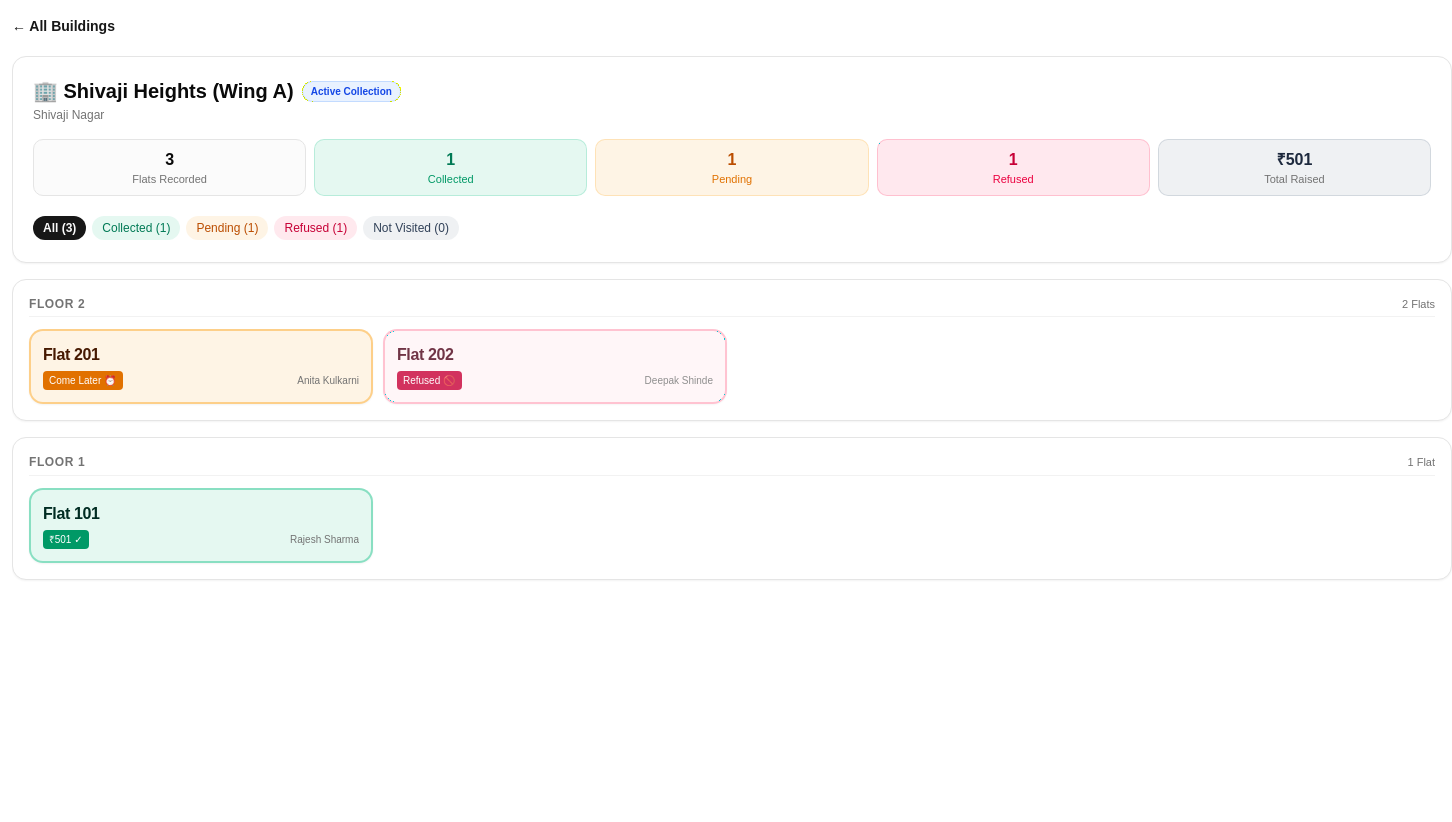
Test: Phase 2I: BuildingFlatGrid Progressive Discovery Component › filters properties using filter chips
The image size is (1452, 822).
Note: Click 'Collected (1)' filter chip
Click the button "Collected (1)" at (136, 228), box [92,216,180,240]
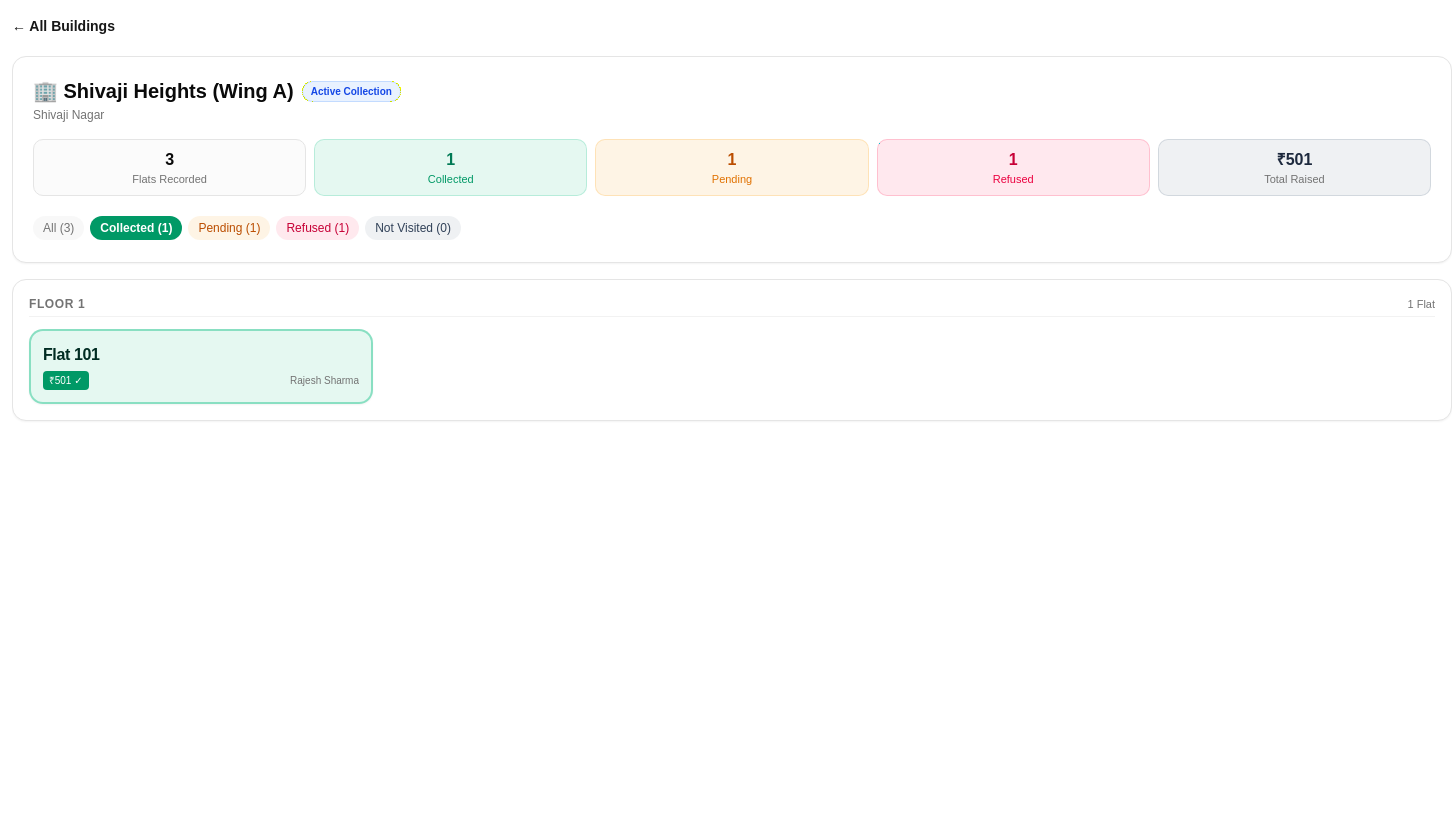
Check: the text "Flat 101" is shown, box [43,343,99,367]
Check: the button "Flat 201" is gone
Check: the button "Flat 202" is gone
Note: Click 'Pending (1)' filter chip
Click the button "Pending (1)" at (229, 228), box [188,216,270,240]
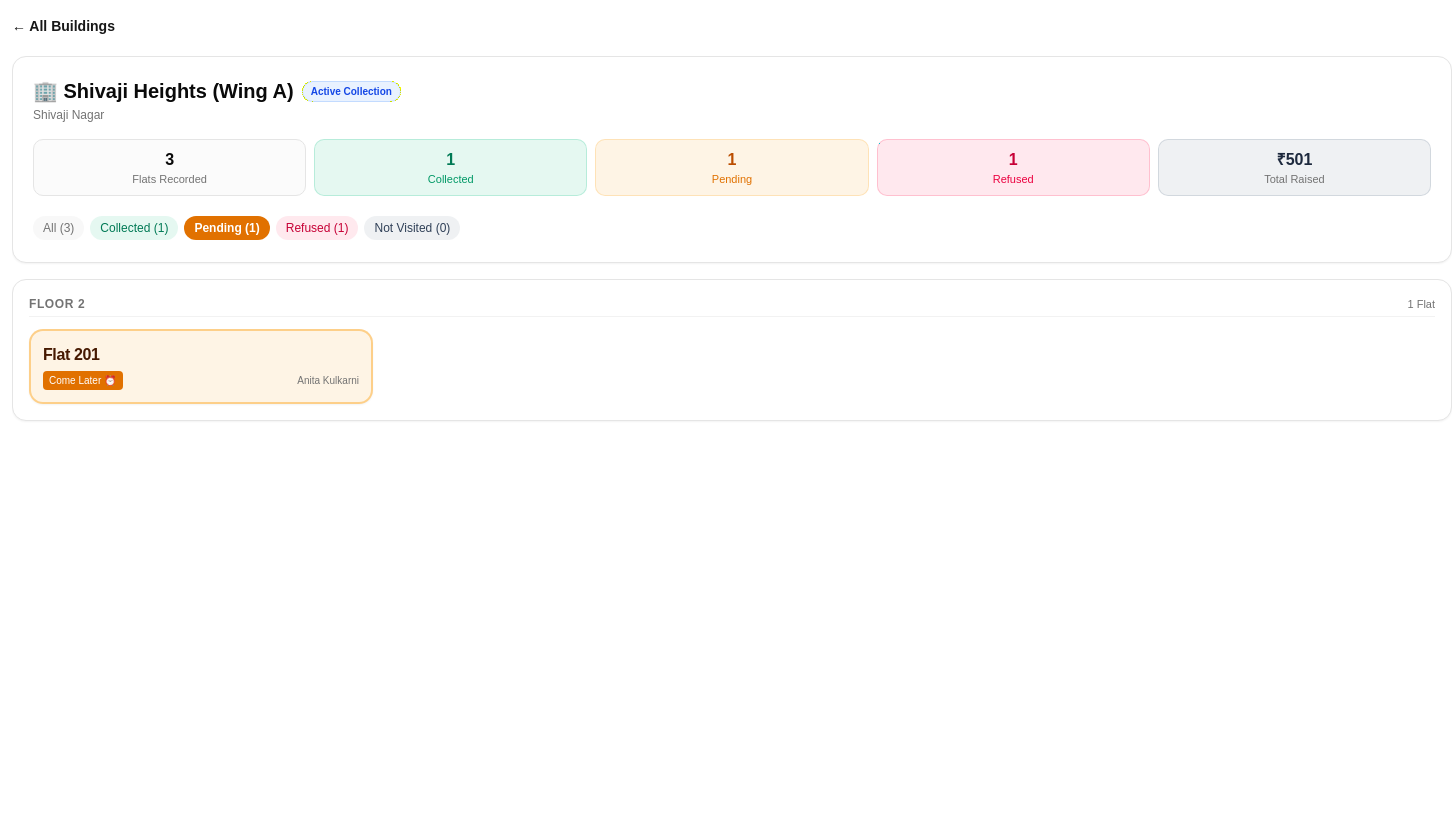
Check: the button "Flat 202" is not shown
Check: the button "Flat 101" is gone
Check: the text "Flat 201" is shown, box [43,343,99,367]
Note: Click 'All (3)'
Click the button "All (3)" at (59, 228), box [33,216,84,240]
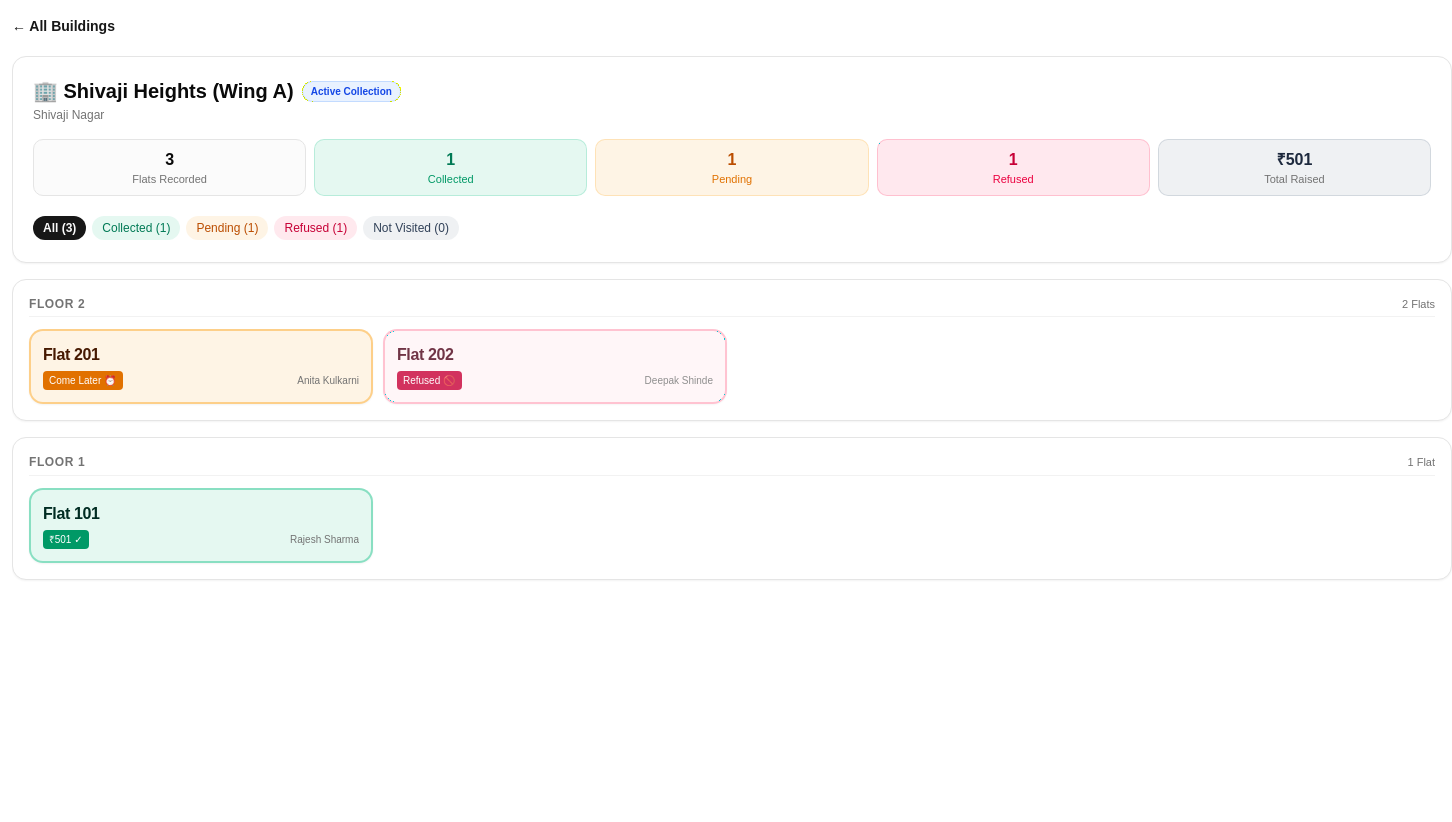
Check: the text "Flat 201" is shown, box [43,343,99,367]
Check: the text "Flat 101" is shown, box [43,502,99,526]
Check: the text "Flat 202" is shown, box [397,343,453,367]
